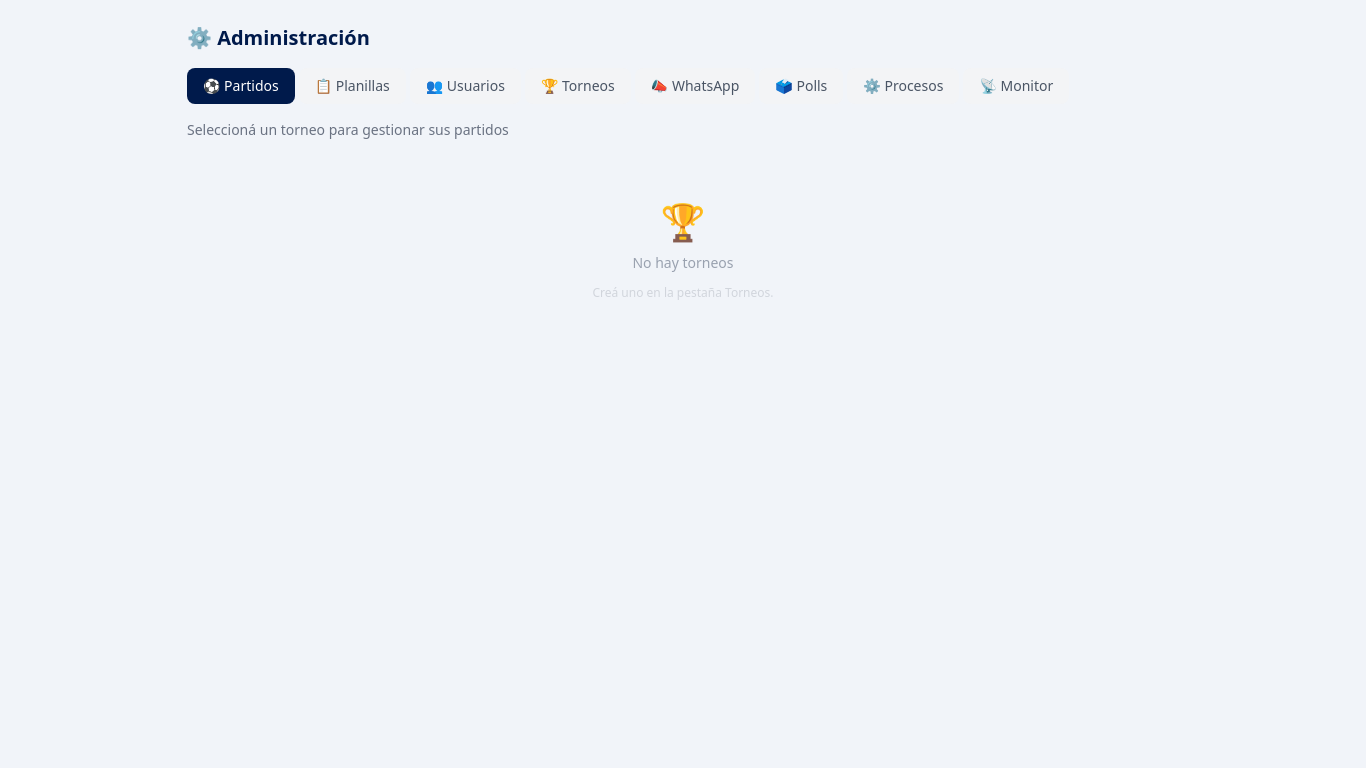
it: Admin — paginación de usuarios › muestra controles de paginación cuando hay más de una página
The width and height of the screenshot is (1366, 768).
Click the button "👥 Usuarios" at x=465, y=86, box [410,68,521,104]
(page scrolled)
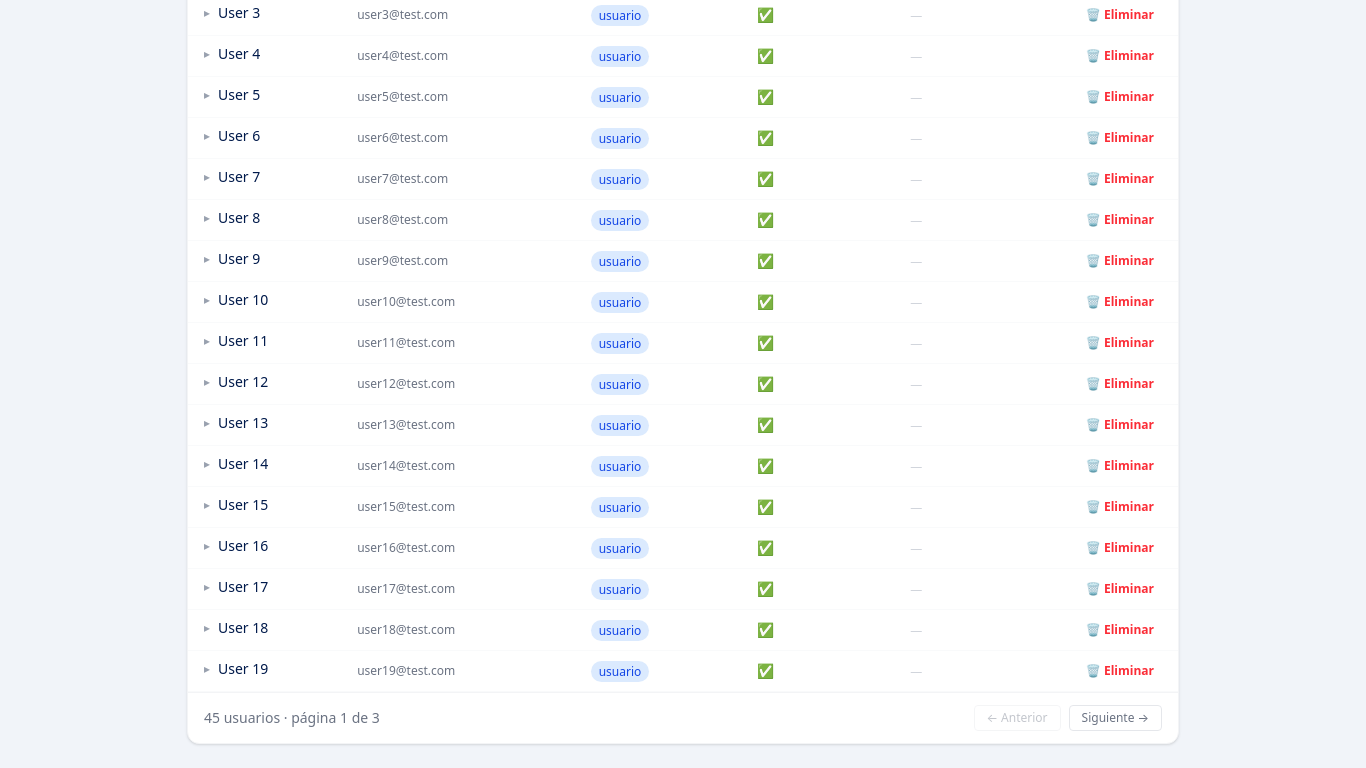
expect the text "45 usuarios · página 1 de 3" is shown: met, box [204,708,380,728]
expect the button "← Anterior" is shown: met, box [974,705,1060,731]
expect the button "Siguiente →" is shown: met, box [1069,705,1162,731]
